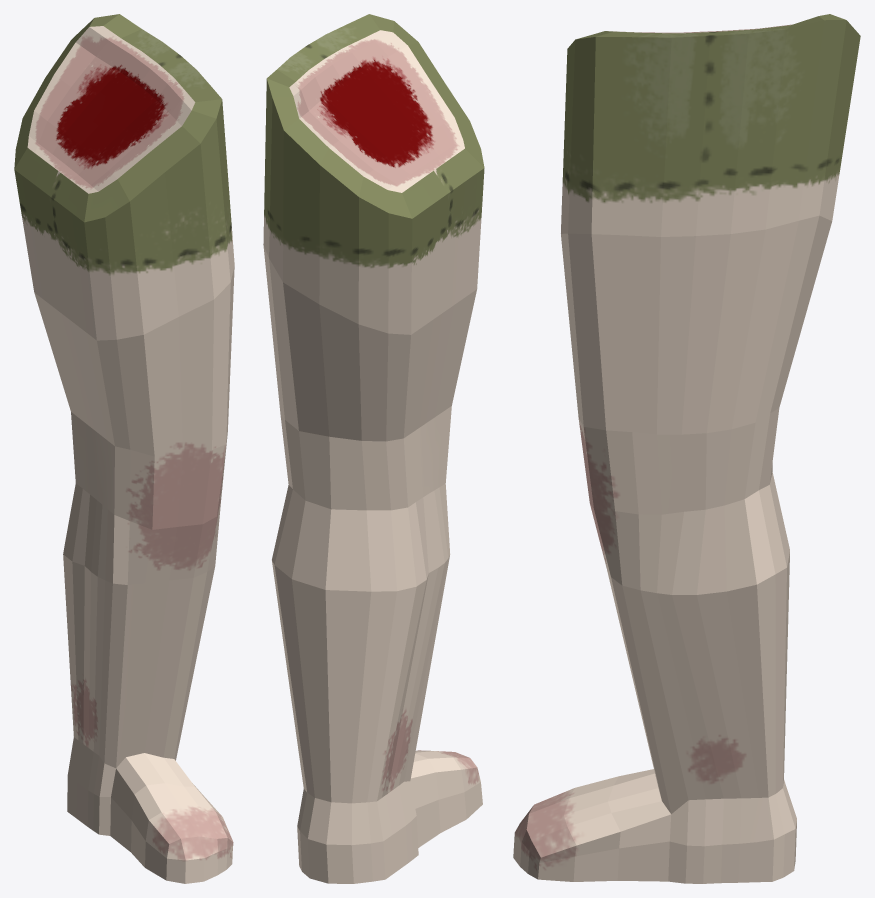
File: lemvasjalk.fbx
3 renders of one model, left to right at view 1: azimuth 30°, elevation 25°; view 2: azimuth 150°, elevation 25°; view 3: azimuth 270°, elevation 25°, orthographic. The views are drawn at different scales.
Visible parts, largest first — view 1: legs.001; view 2: legs.001; view 3: legs.001.
Boxes of the visible parts, bbox=[...] form: legs.001: bbox=[14, 14, 234, 883]; legs.001: bbox=[263, 14, 484, 883]; legs.001: bbox=[513, 14, 860, 883].
Size of the model in its own units: 31.36 by 155 by 56.51.
